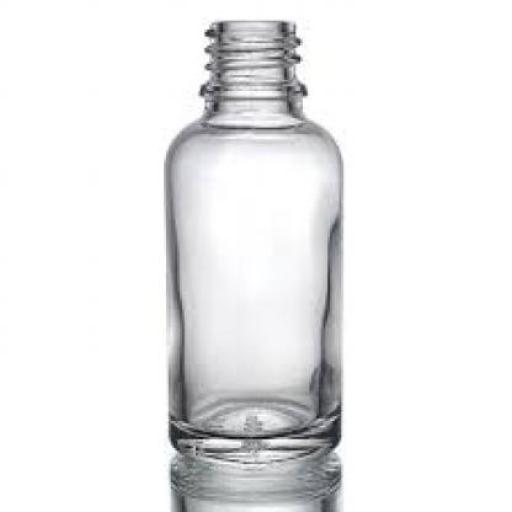glass: (162, 18, 339, 469)
